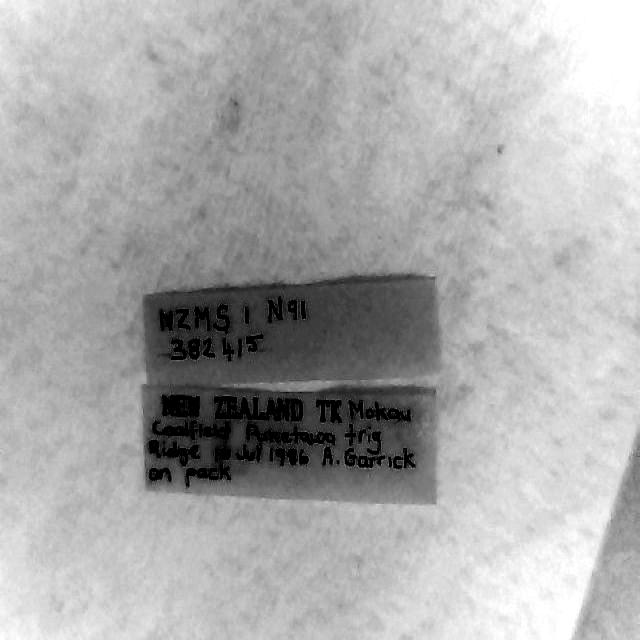hand_label: (145, 278, 440, 384)
mixed_label: (142, 385, 436, 503)
